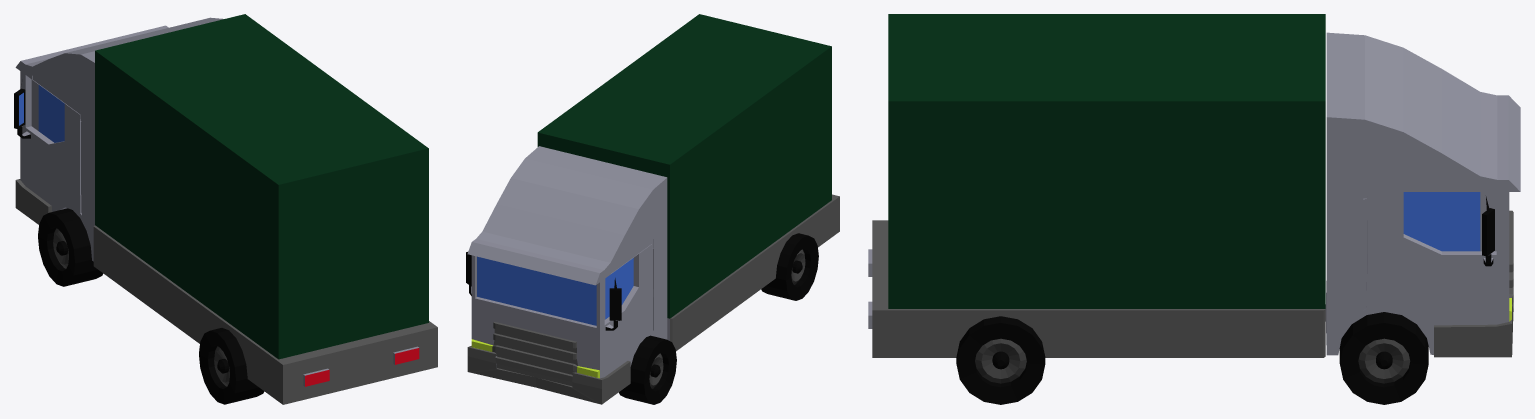
Rendered from truckWhite.glb.
The picture shows the model from 3 angles, left to right: view 1: azimuth 30°, elevation 25°; view 2: azimuth 150°, elevation 25°; view 3: azimuth 270°, elevation 25°; orthographic projection. The views are drawn at different scales.
Parts seen in each view (by area): view 1: Truck6; view 2: Truck6; view 3: Truck6.
Boxes of the visible parts, <box> form: Truck6: <box>14,14,437,404</box>; Truck6: <box>466,14,839,404</box>; Truck6: <box>868,14,1520,404</box>.
Bounding box in the file's own units: 12 × 16 × 32.
